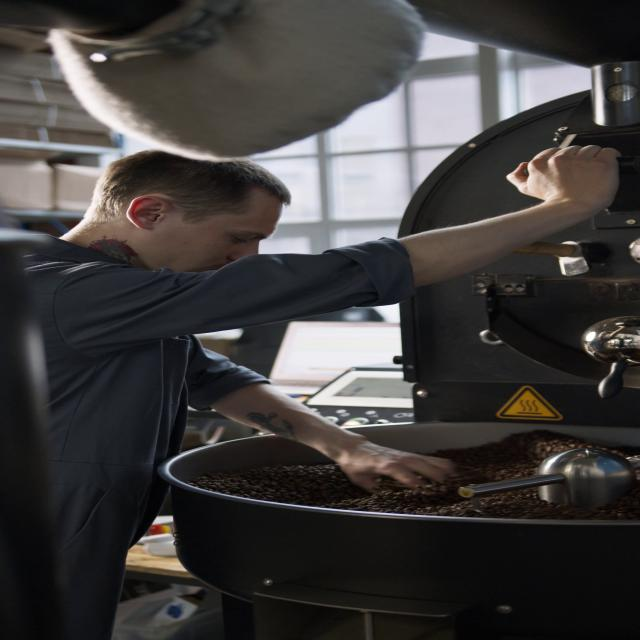not-gloved: (331, 439, 457, 494), (504, 146, 620, 202)
